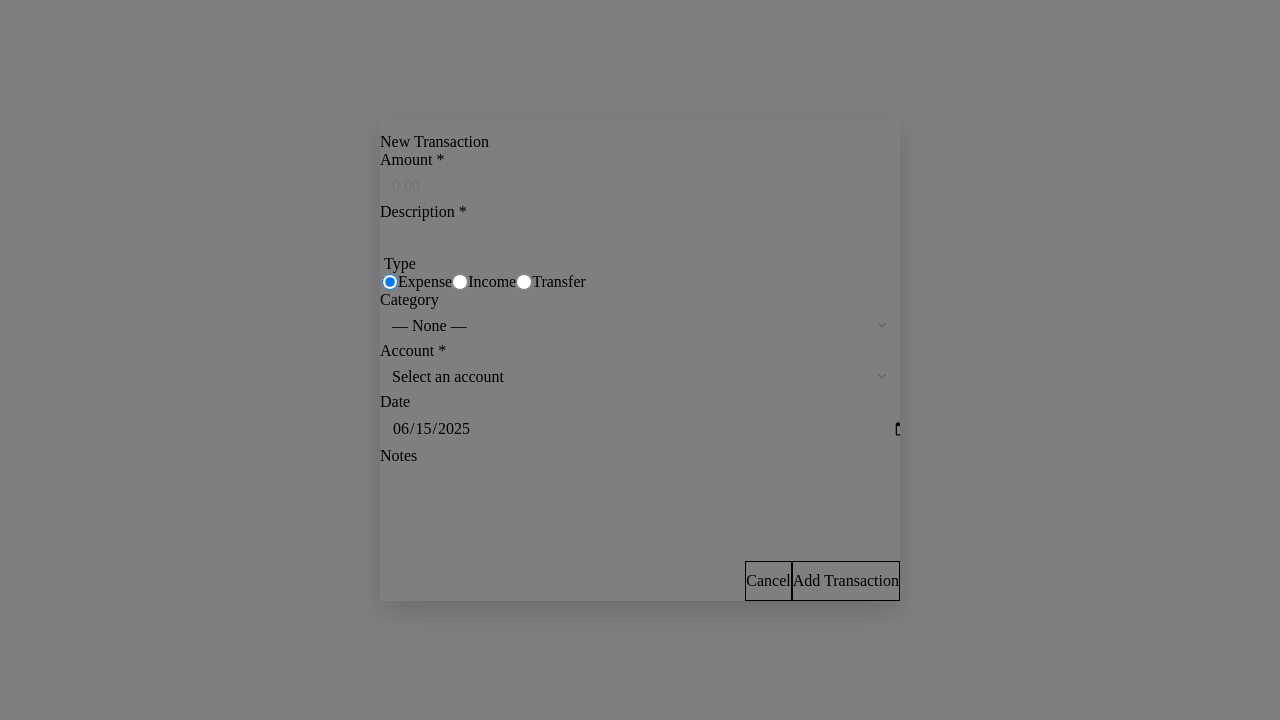
Test: TransactionForm › shows validation errors for empty required fields on submit
Click the button "Add Transaction" at (846,581), box [792,561,900,601]
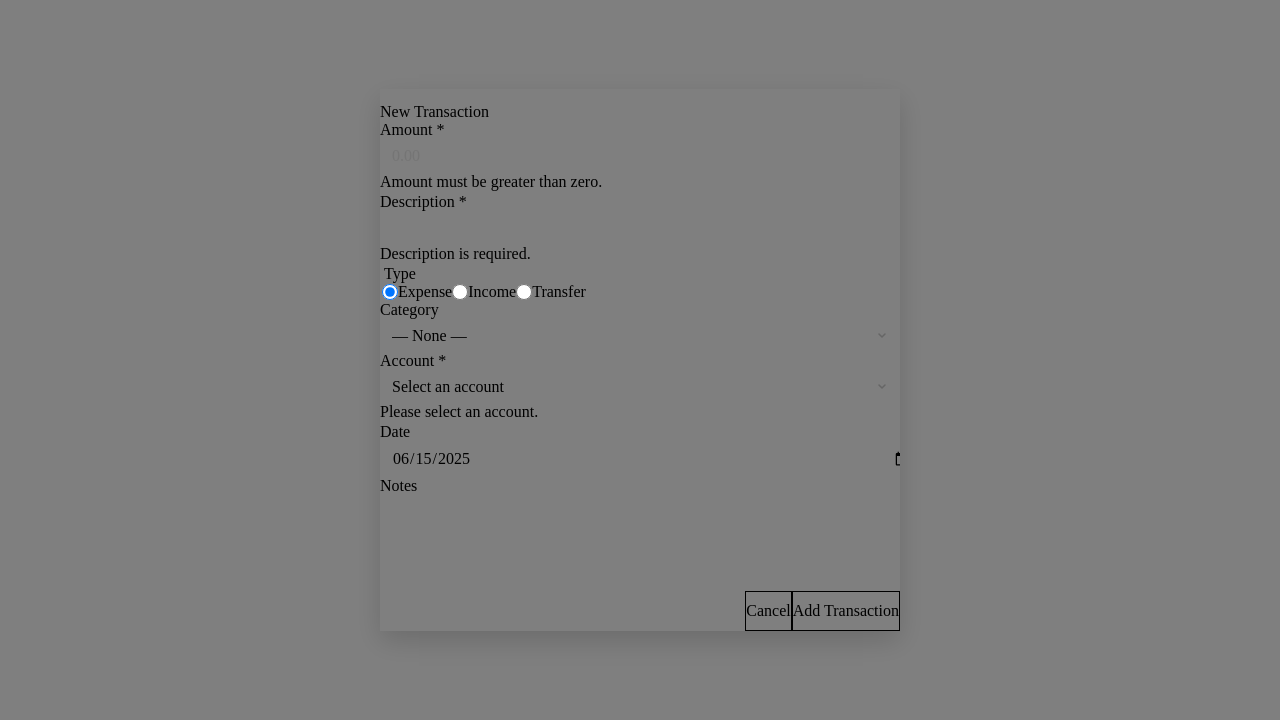
Now the text "Amount must be greater than zero." is shown, box [380,173,602,190]
Now the text "Description is required." is shown, box [380,245,531,262]
Now the text "Please select an account." is shown, box [380,403,538,420]
